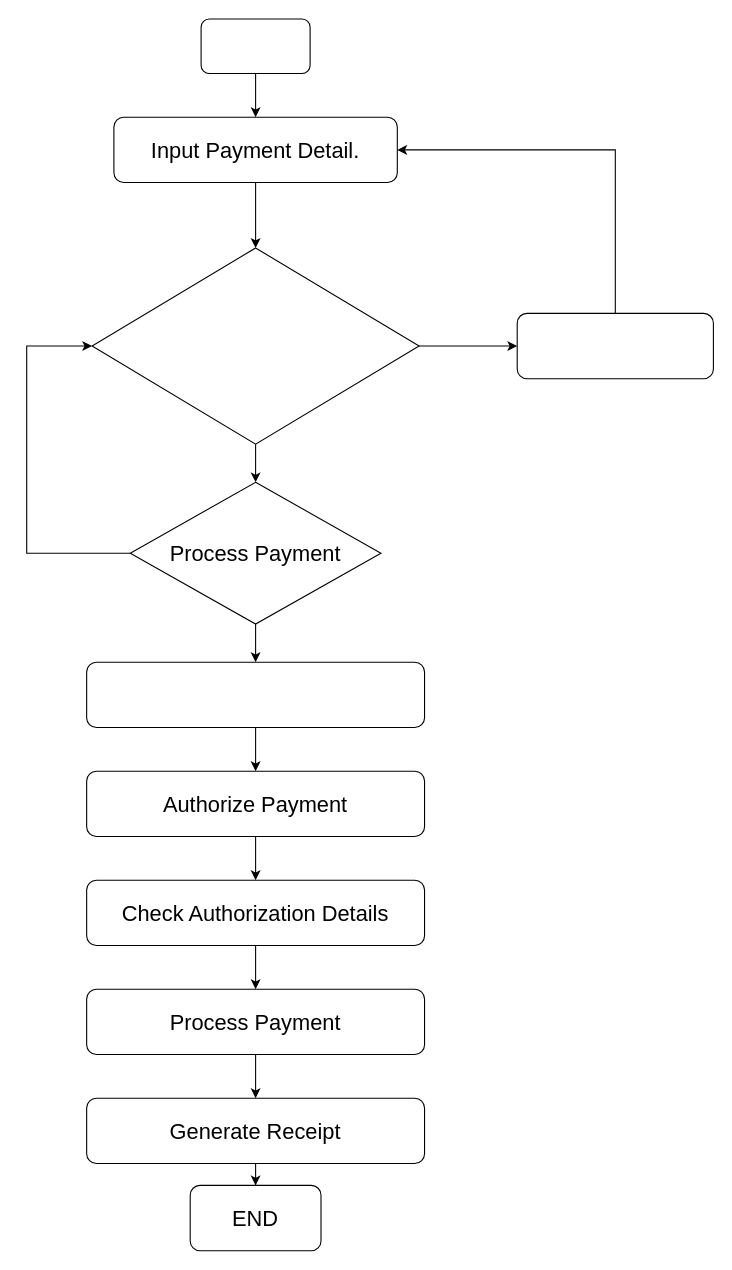
This 732x1270 diagram has some shape labels left out. The centre of each missing label's shape, as x and y in pixels:
"Connect to payment gateway" belongs at point (255, 694).
"Re-Enter the card details" belongs at point (614, 345).
"Start" belongs at point (255, 46).
"Validate Payment details" belongs at point (255, 345).
